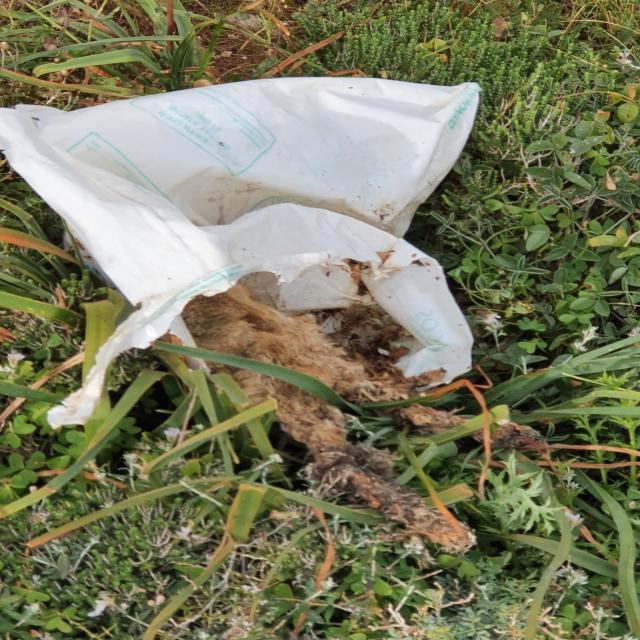Plastic bag - wrapper: (0, 66, 486, 425)
